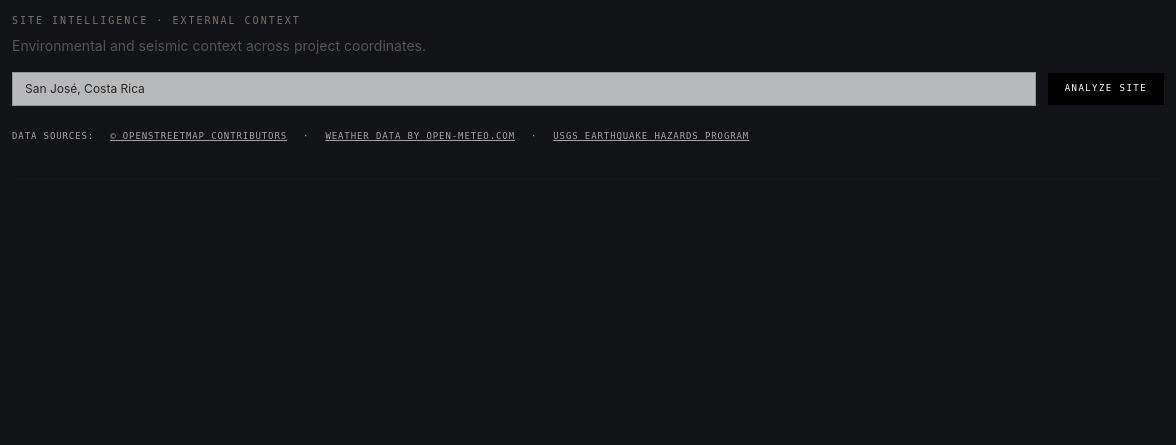
Scenario: ExternalContextPanel UI Component › handles partial failure: weather fails but seismic succeeds
Click the button with test id "site-intelligence-analyze".
click(1106, 89)  # box x1=1048 y1=73 x2=1164 y2=105
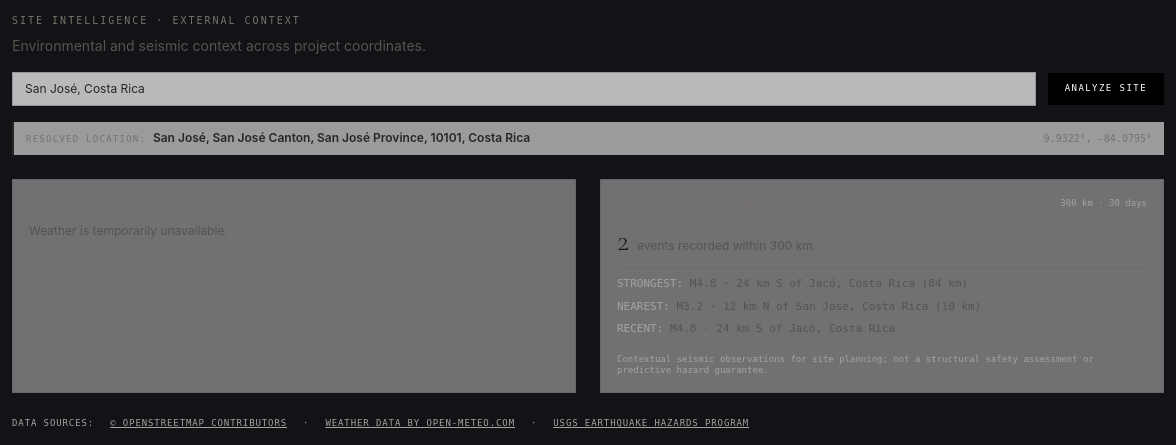
Now the element with test id "site-intelligence-location" is shown, box x1=12 y1=122 x2=1164 y2=155
Now the text "Weather is temporarily unavailable." is shown, box x1=29 y1=223 x2=228 y2=238
Now the element with test id "site-intelligence-seismic" is shown, box x1=600 y1=179 x2=1164 y2=393
